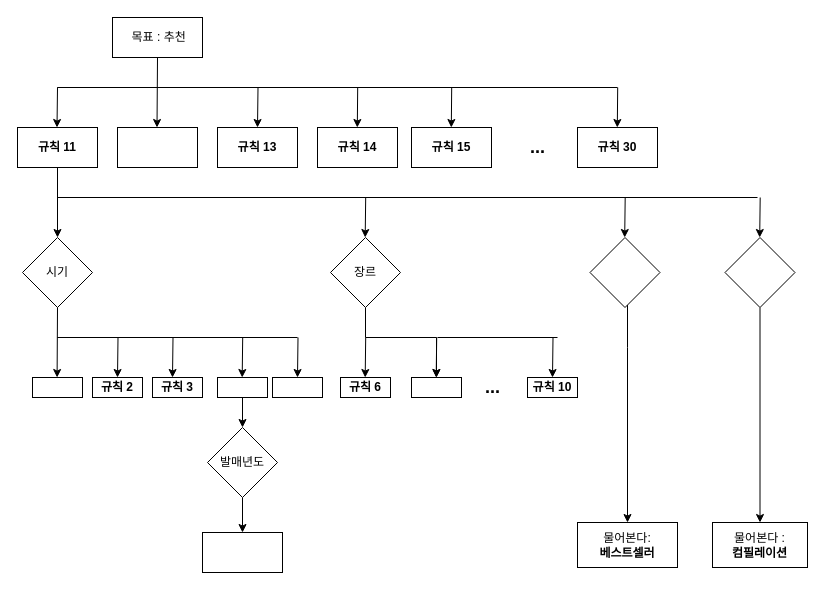
This 825x590 diagram has some shape labels left out. The box of each missing label's shape, as (x1, y1, x2, y2) in pixels:
규칙 1: (32, 376, 82, 398)
규칙 12: (116, 126, 198, 168)
규칙 4: (216, 376, 268, 398)
규칙 5: (272, 376, 322, 398)
규칙 7: (410, 376, 462, 398)
물어본다: 발매년도: (202, 532, 282, 572)
베스트셀러: (589, 236, 660, 308)
컴필레이션: (724, 236, 795, 308)
